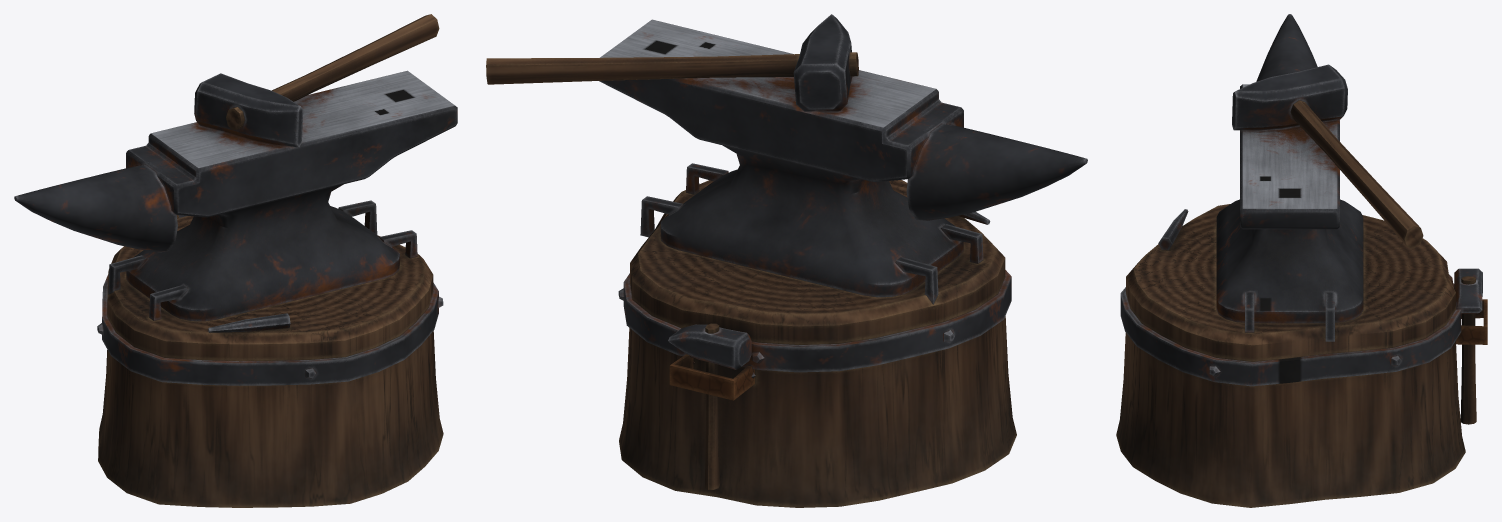
The model's file is forja_yunque.fbx.
3 views of the same model, side by side, from view 1: azimuth 30°, elevation 25°; view 2: azimuth 150°, elevation 25°; view 3: azimuth 270°, elevation 25° (orthographic). The views are drawn at different scales.
Parts seen in each view (by area): view 1: forja_yunque; view 2: forja_yunque; view 3: forja_yunque.
Boxes of the visible parts, x1=… form: forja_yunque: x1=14, y1=14, x2=457, y2=507; forja_yunque: x1=486, y1=14, x2=1087, y2=507; forja_yunque: x1=1116, y1=14, x2=1487, y2=507.
Bounding box in the file's own units: 4.51 × 3.16 × 3.04.
1 material, 1 textured.
